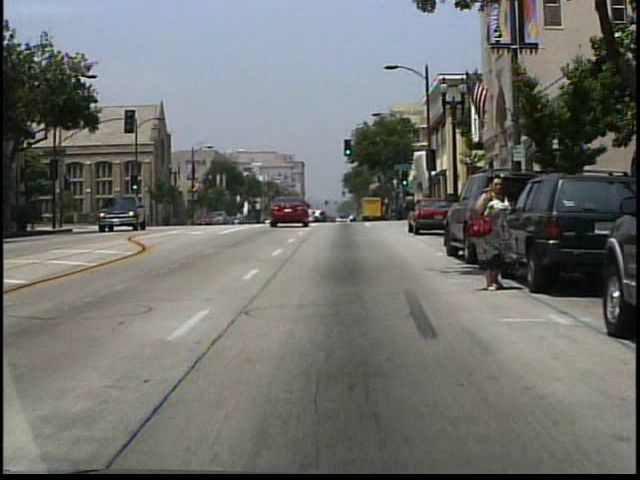person: (470, 173, 526, 294)
